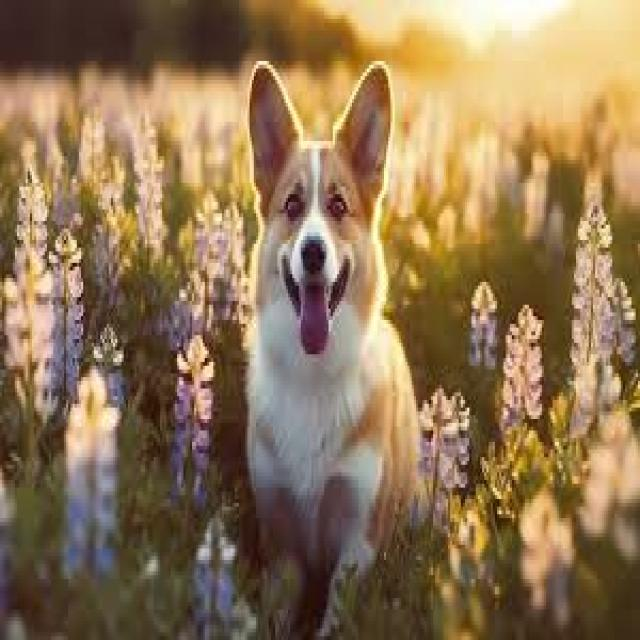CORGI: (233, 35, 427, 606)
